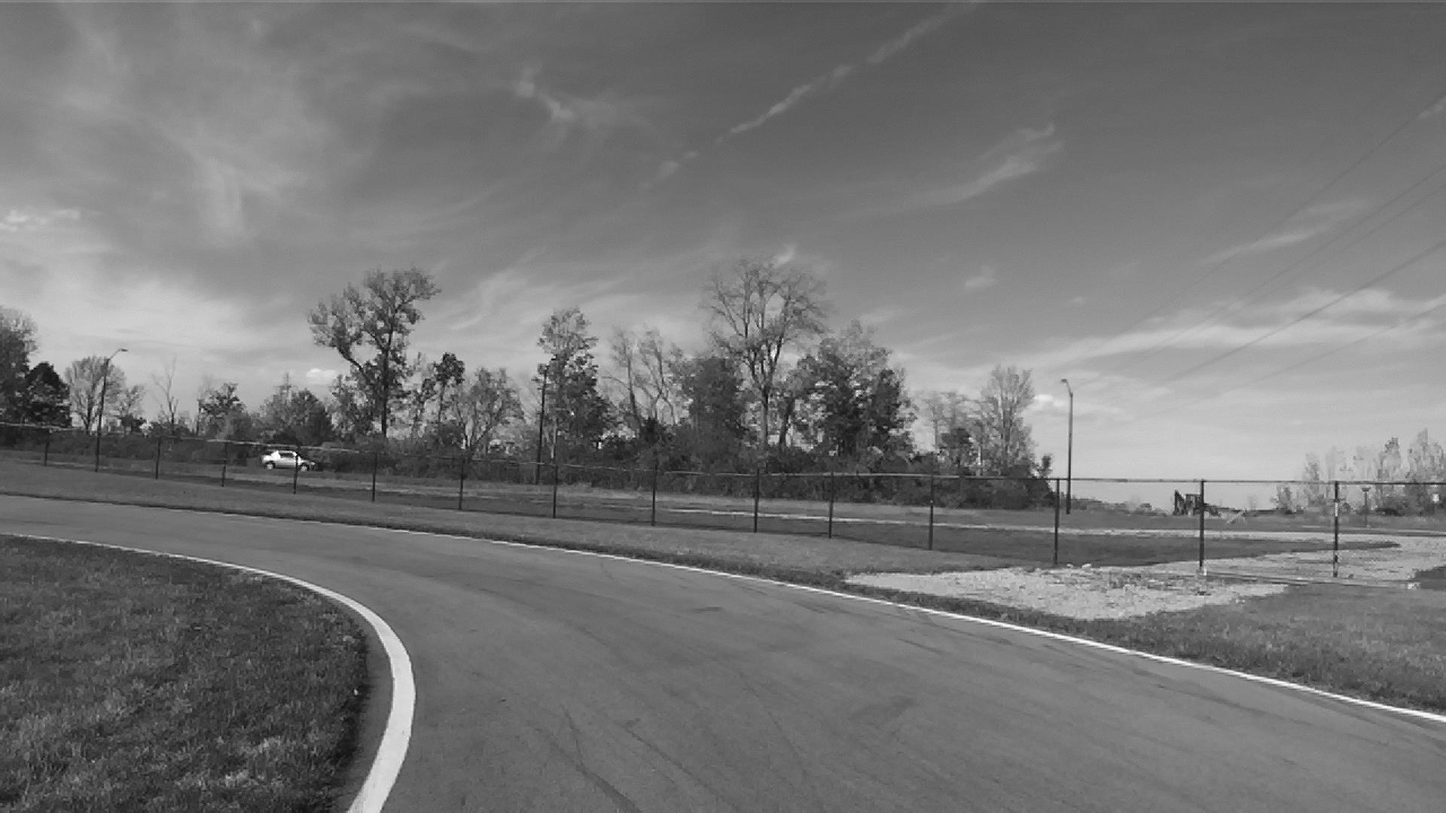white-line: (486, 540, 1445, 724), (18, 534, 415, 812)
